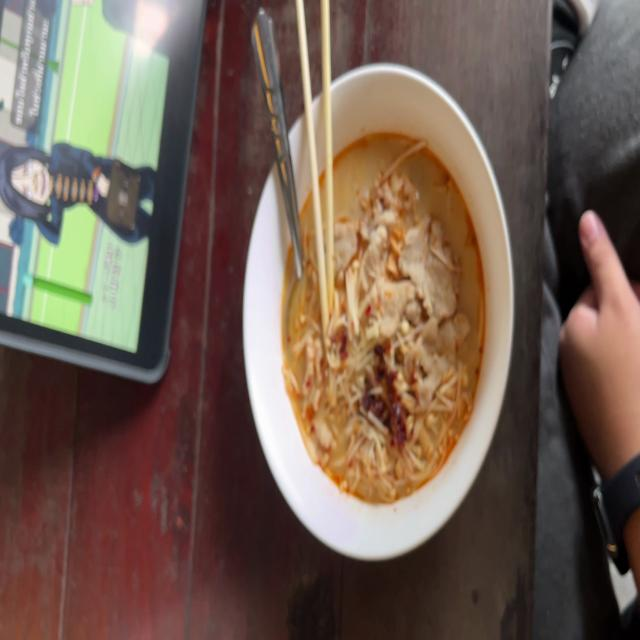noodle: (277, 121, 494, 511)
